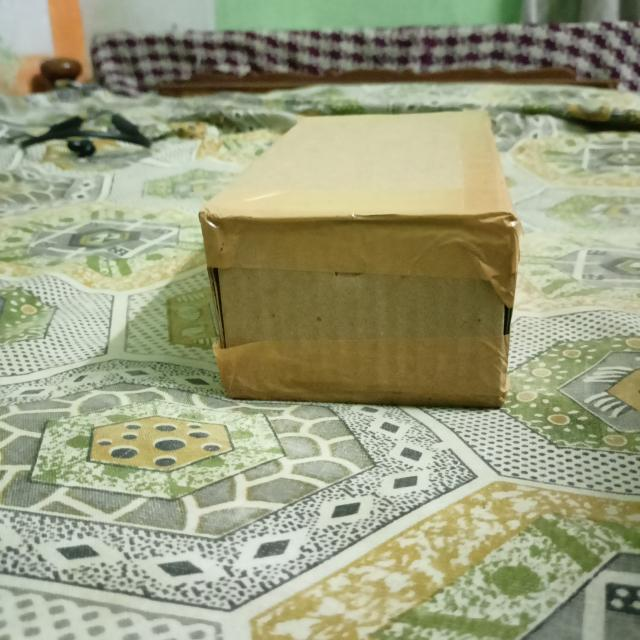box: (198, 210, 518, 403)
